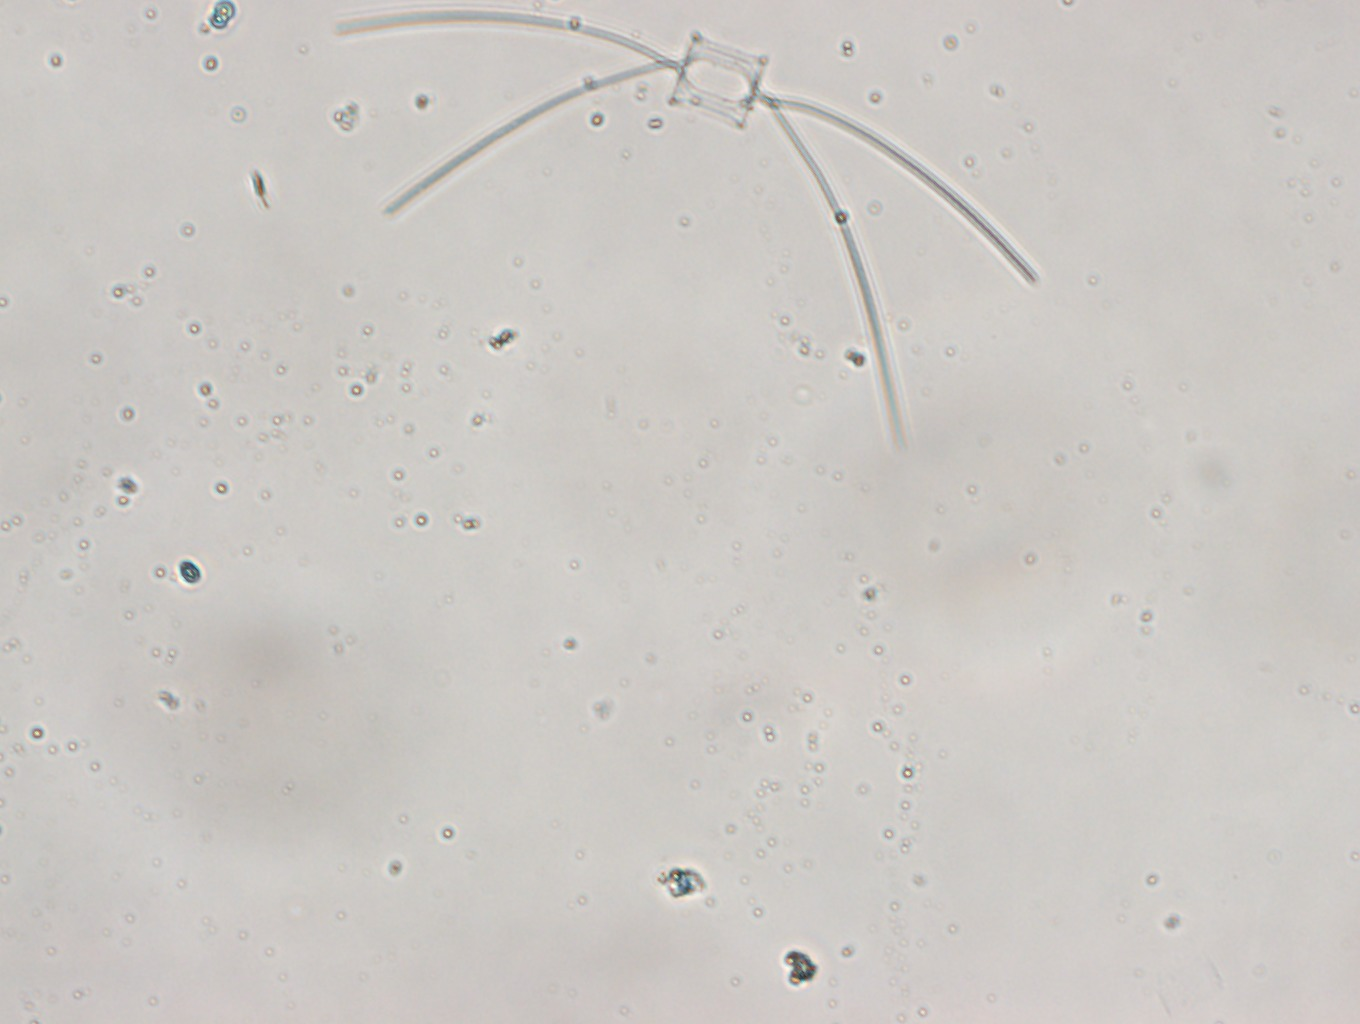chaetoceros: (332, 8, 1039, 452)
